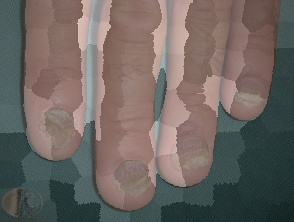Nail_psoriasis: (17, 87, 95, 163), (95, 139, 168, 211), (164, 114, 221, 182), (219, 64, 280, 123)
